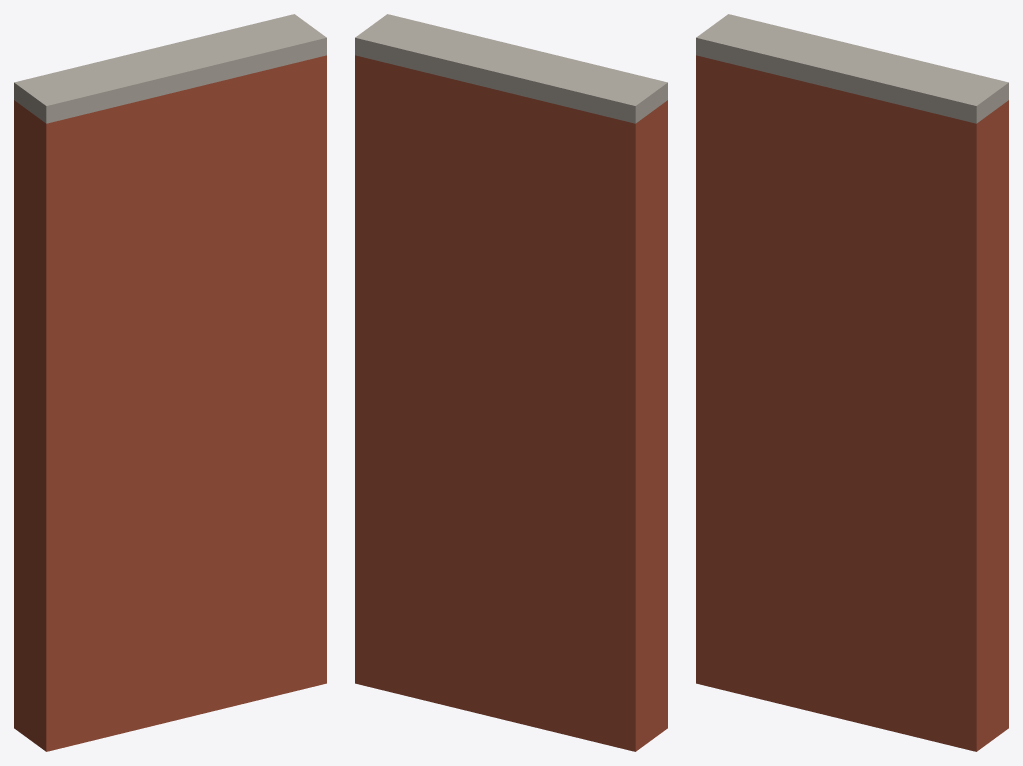
File: raum_wand.glb
3 renders of one model, left to right at view 1: azimuth 30°, elevation 25°; view 2: azimuth 150°, elevation 25°; view 3: azimuth 330°, elevation 25°, orthographic.
Parts seen in each view (by area): view 1: raum_wand; view 2: raum_wand; view 3: raum_wand.
Part boxes in pixels (x1,y1,x2,y2): raum_wand: (14,14,326,751); raum_wand: (355,14,667,751); raum_wand: (696,14,1008,751).
Size of the model in its own units: 1 by 2.2 by 0.2.
